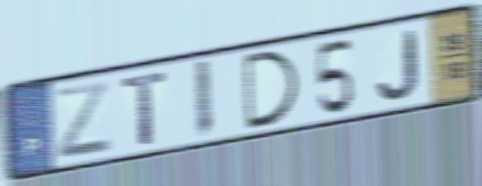5: (313, 36, 356, 116)
D: (239, 47, 303, 133)
I: (192, 56, 214, 143)
J: (375, 27, 422, 102)
T: (120, 67, 171, 148)
Z: (53, 78, 116, 162)
